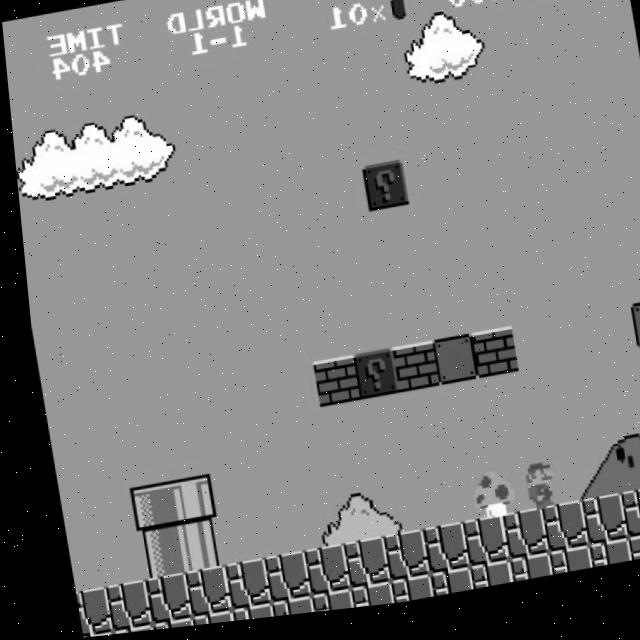1- brick_block: (304, 361, 352, 414), (463, 336, 510, 389), (384, 349, 431, 401)
11- little_mario: (505, 468, 555, 524)
12- mushroom: (459, 475, 509, 531)
13- mystery_block: (357, 167, 404, 219), (344, 355, 391, 407)
14- pipe: (165, 522, 213, 575), (125, 528, 173, 581)
15- pipe_head: (158, 477, 206, 530), (119, 483, 167, 536)
17- undestructible_block: (410, 530, 458, 583), (370, 536, 418, 589), (291, 548, 339, 601), (251, 555, 299, 608), (211, 561, 259, 614), (132, 574, 180, 627), (489, 518, 537, 570), (330, 543, 378, 595), (529, 511, 576, 564), (172, 567, 219, 620), (93, 580, 140, 633), (569, 505, 616, 557), (450, 524, 497, 576), (63, 586, 100, 637), (608, 499, 640, 551), (575, 550, 620, 580), (535, 556, 580, 586), (495, 562, 540, 592), (456, 569, 501, 599), (416, 575, 461, 605), (377, 581, 421, 611), (337, 588, 381, 615), (297, 593, 341, 618), (257, 600, 301, 622), (217, 606, 261, 625), (615, 544, 640, 574), (178, 613, 221, 629), (138, 619, 181, 632), (98, 625, 141, 636)
3- empty_block: (423, 342, 471, 395), (621, 311, 640, 364)
